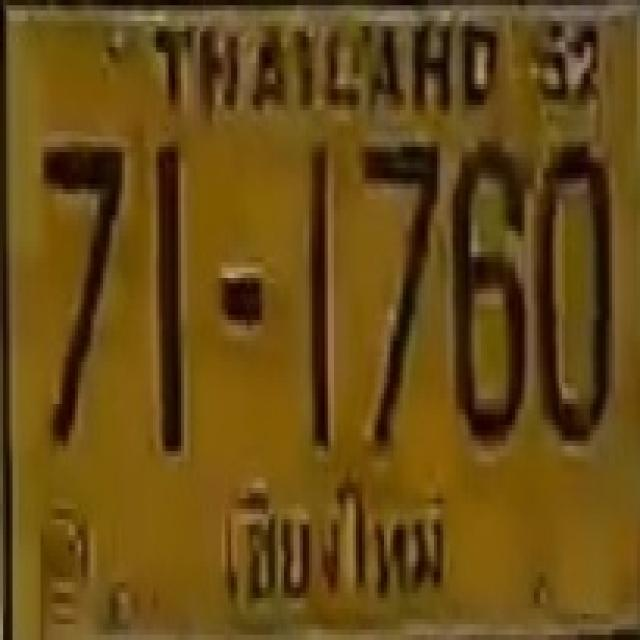0: (536, 137, 610, 436)
1: (154, 142, 182, 451), (306, 142, 328, 446)
6: (450, 139, 524, 438)
7: (359, 139, 437, 443), (41, 142, 118, 440), (359, 139, 437, 375), (41, 142, 118, 378)
CMI: (211, 471, 458, 616)
